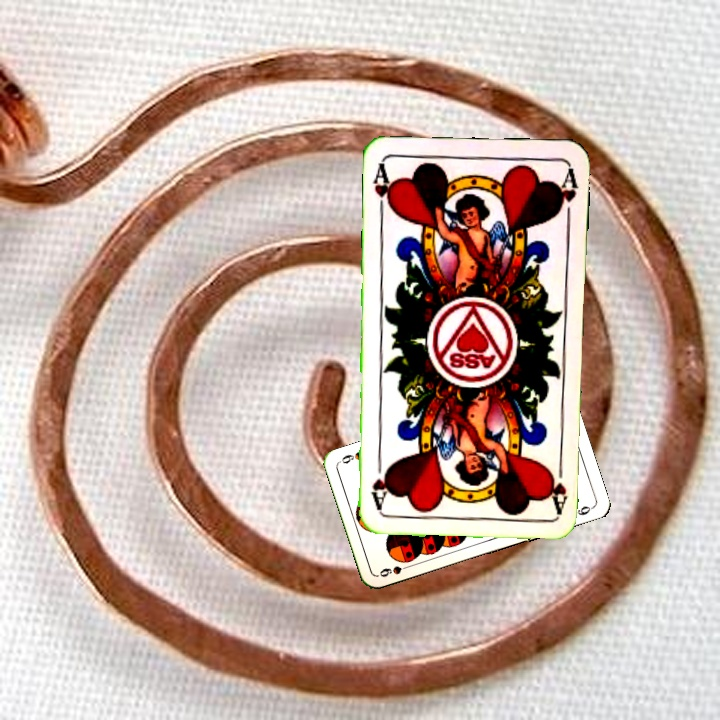HA: (369, 161, 396, 220), (549, 454, 570, 513)
S9: (375, 560, 415, 580)
